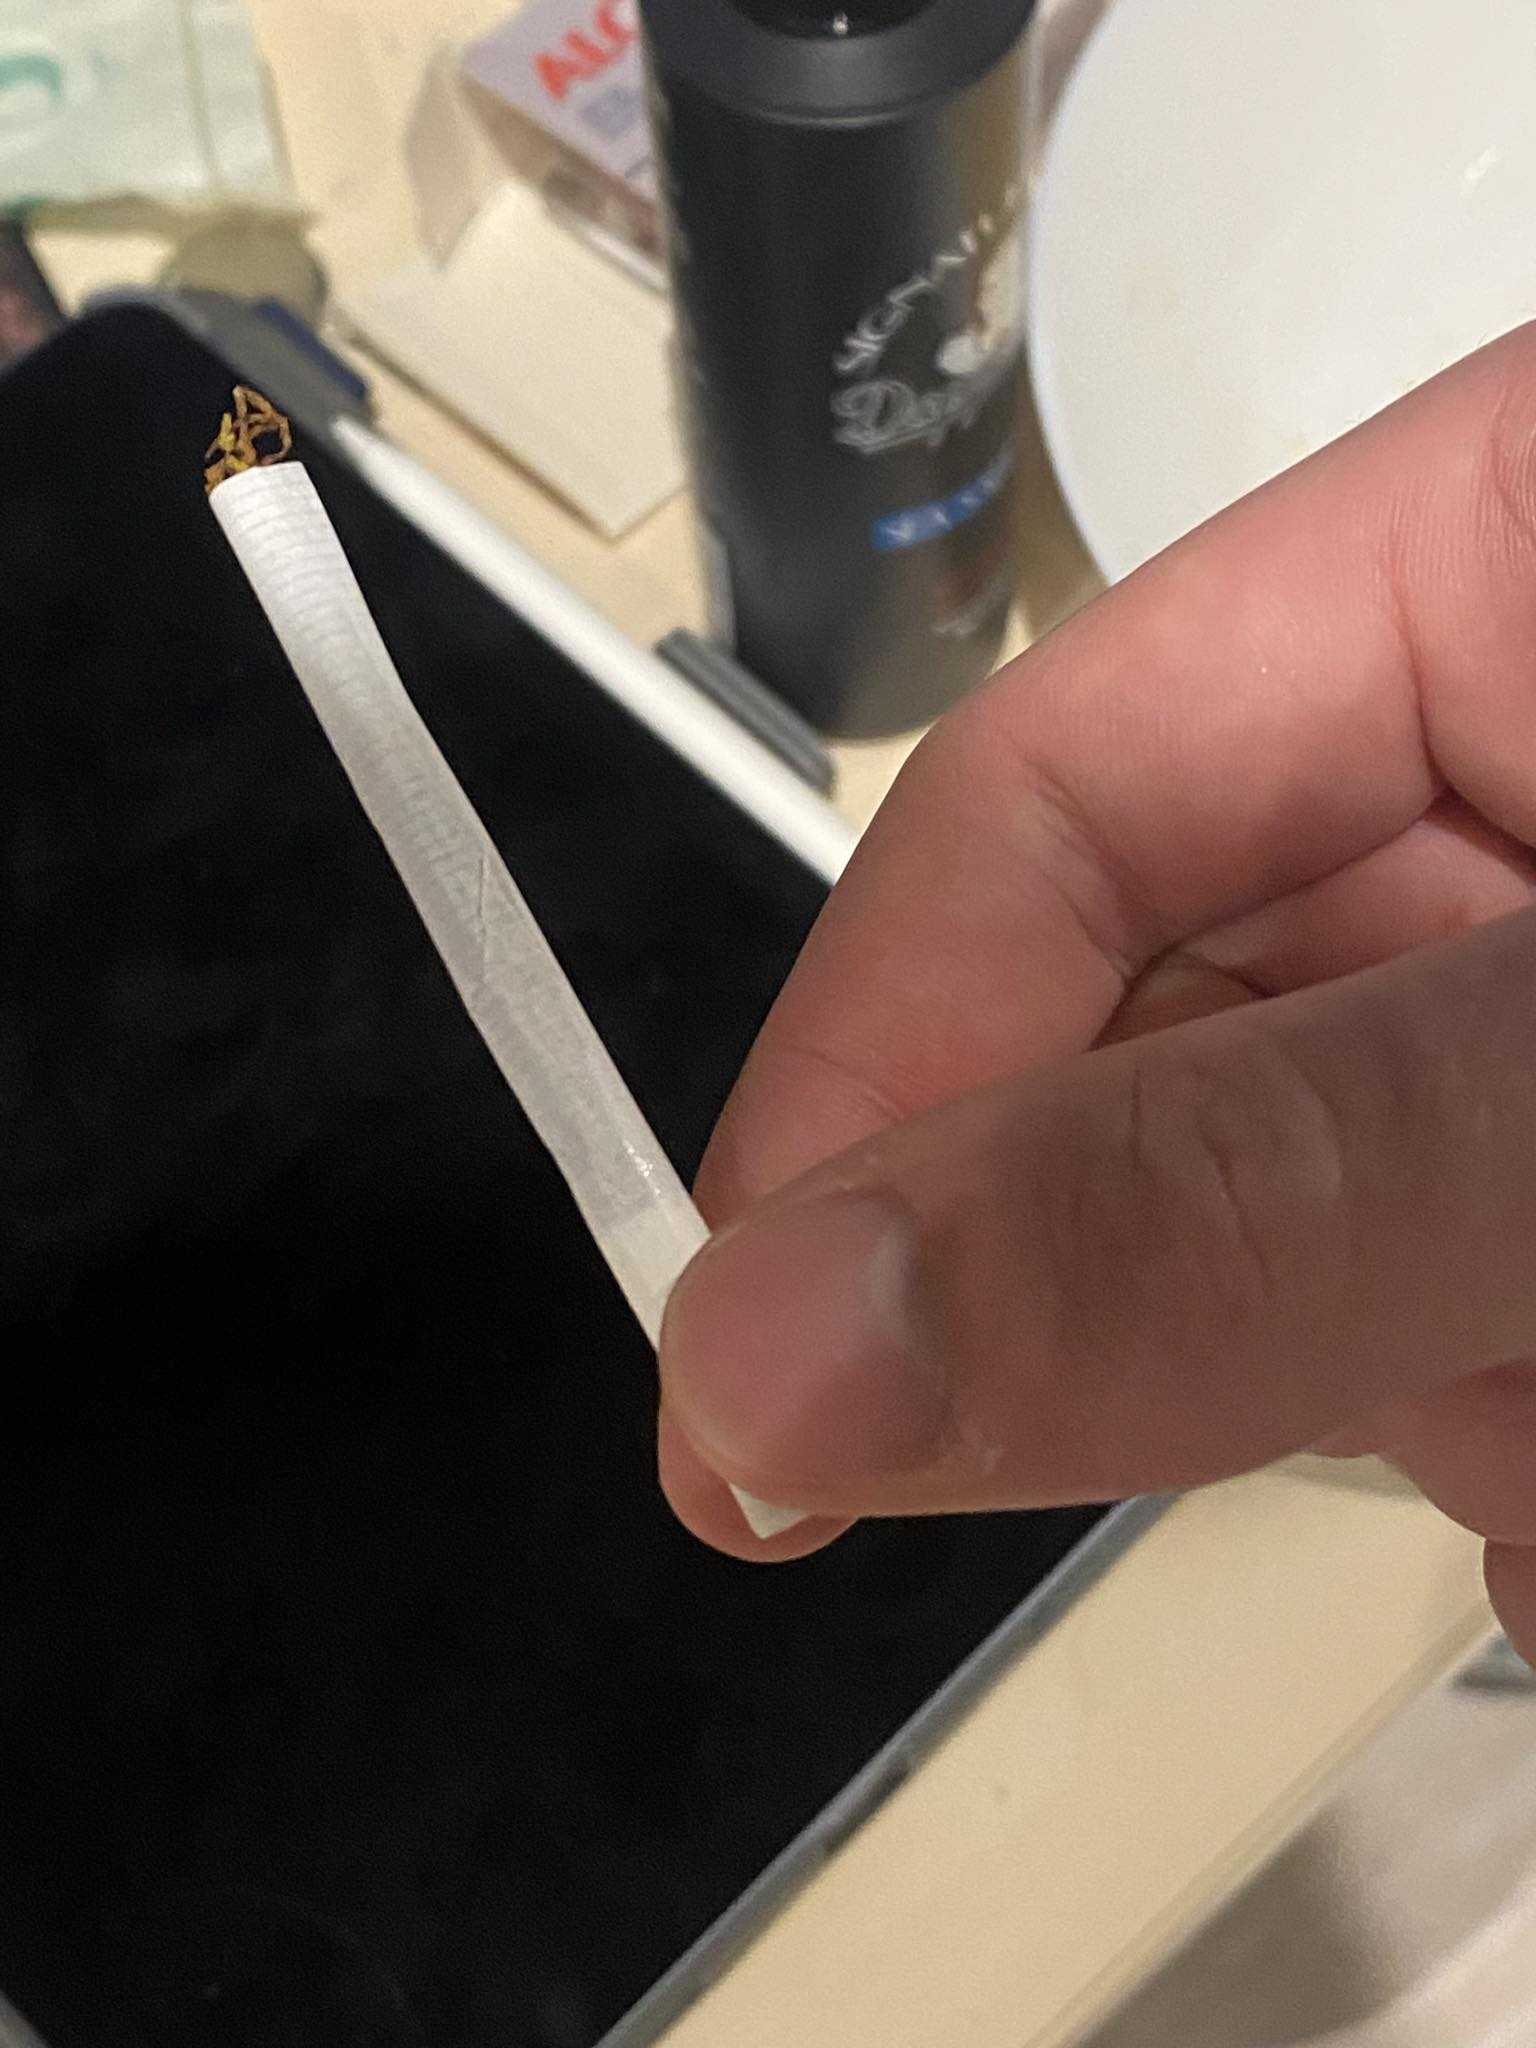Cigarette: (203, 384, 812, 1534)
